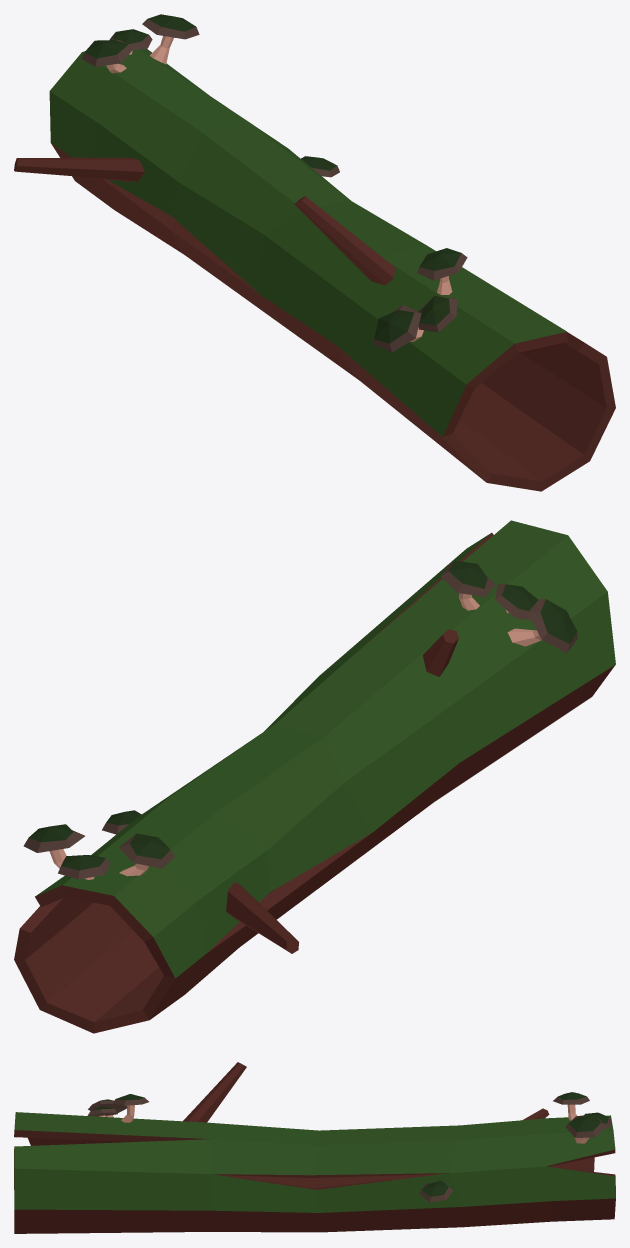
Rendered from WoodLog_Moss.glb.
The picture shows the model from 3 angles, top to bottom: view 1: azimuth 30°, elevation 25°; view 2: azimuth 150°, elevation 25°; view 3: azimuth 270°, elevation 25°; orthographic projection. The views are drawn at different scales.
Visible parts, largest first — view 1: WoodLog_Moss; view 2: WoodLog_Moss; view 3: WoodLog_Moss.
Part boxes in pixels (bbox=[...]): WoodLog_Moss: bbox=[14, 14, 615, 491]; WoodLog_Moss: bbox=[14, 520, 615, 1033]; WoodLog_Moss: bbox=[14, 1062, 615, 1233].
Size of the model in its own units: 89.66 by 68.83 by 267.
